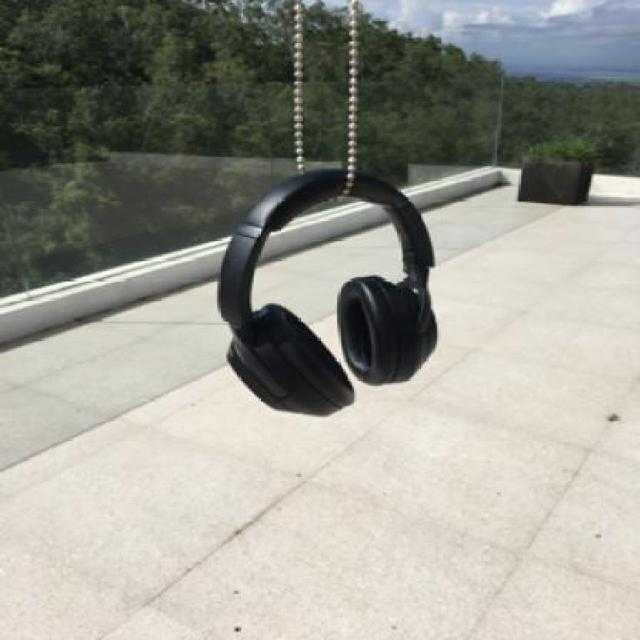earphone: (195, 140, 508, 492)
